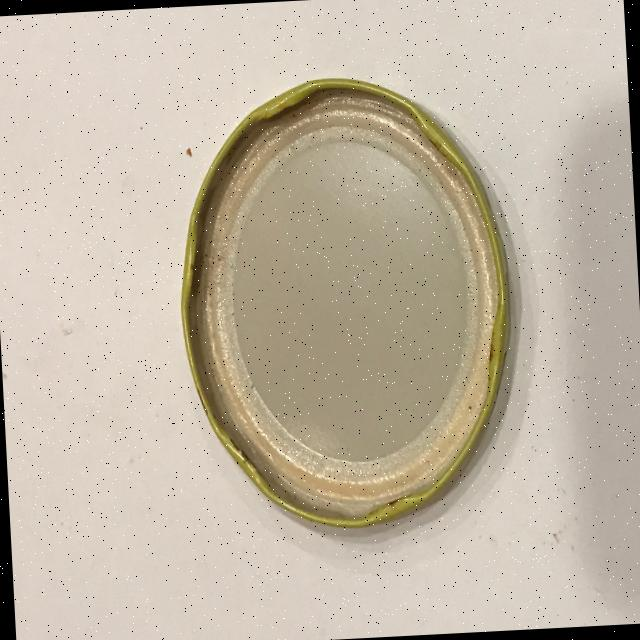metal: (168, 68, 522, 537)
